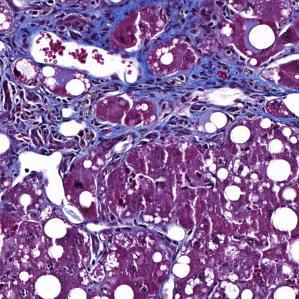fibrosis: (152, 66, 272, 140), (5, 70, 99, 146), (114, 3, 220, 53)
